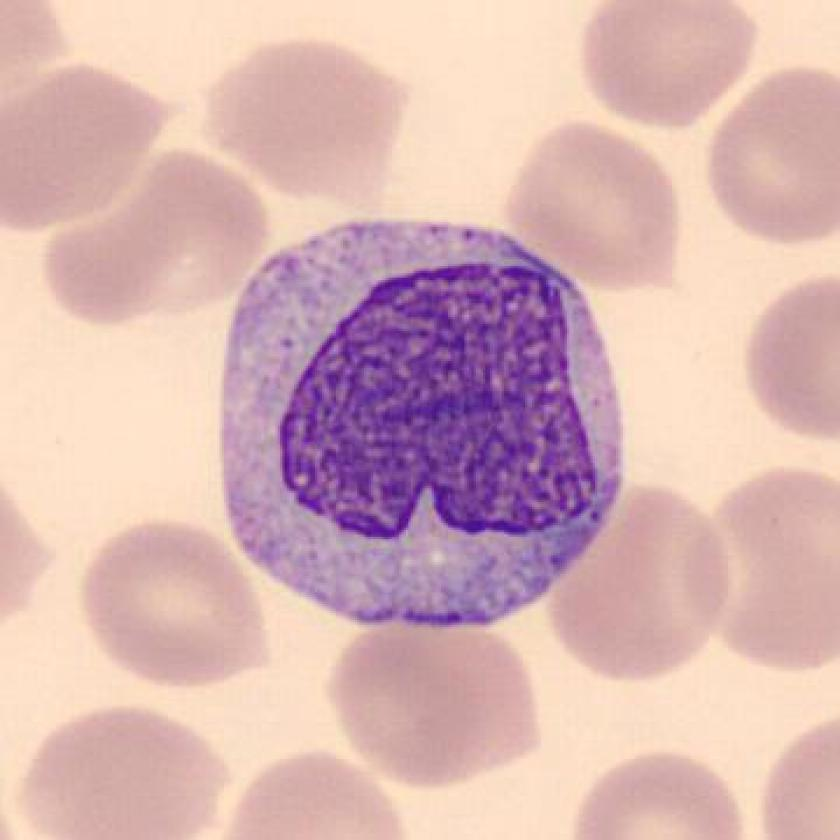monocyte: (204, 205, 645, 649)
